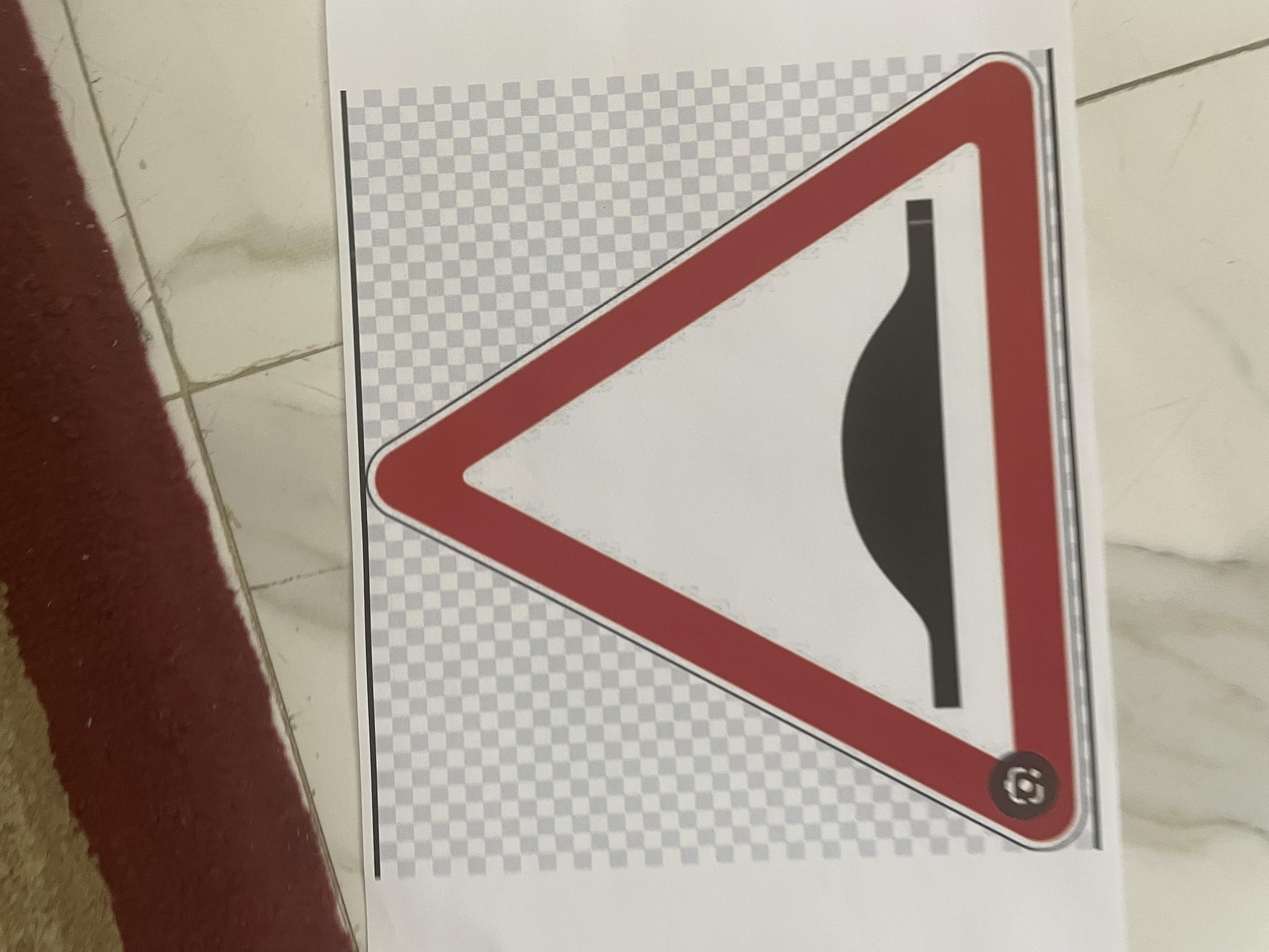Hump: (136, 267, 1222, 812)
